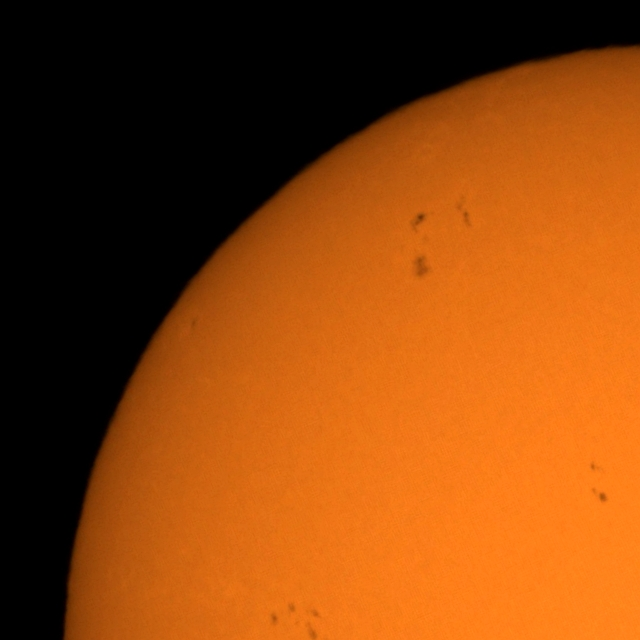sunspot: (275, 600, 324, 640), (411, 253, 432, 280), (457, 197, 472, 231), (410, 211, 428, 234), (590, 487, 610, 505), (588, 461, 604, 473), (270, 610, 280, 626)
